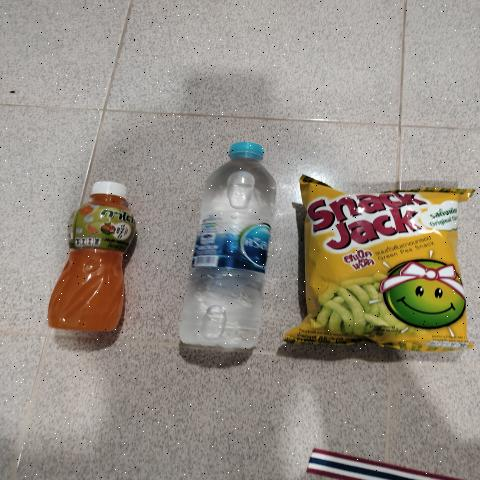crystal: (167, 117, 296, 380)
snack_jack: (316, 190, 446, 339)
